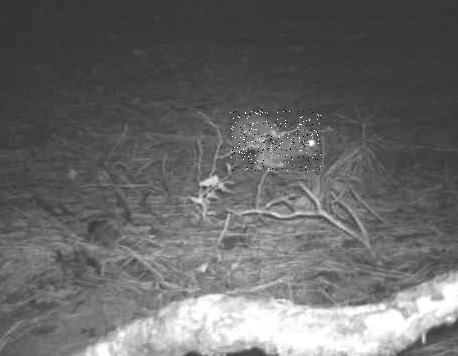Rabbit: (231, 109, 322, 172)
